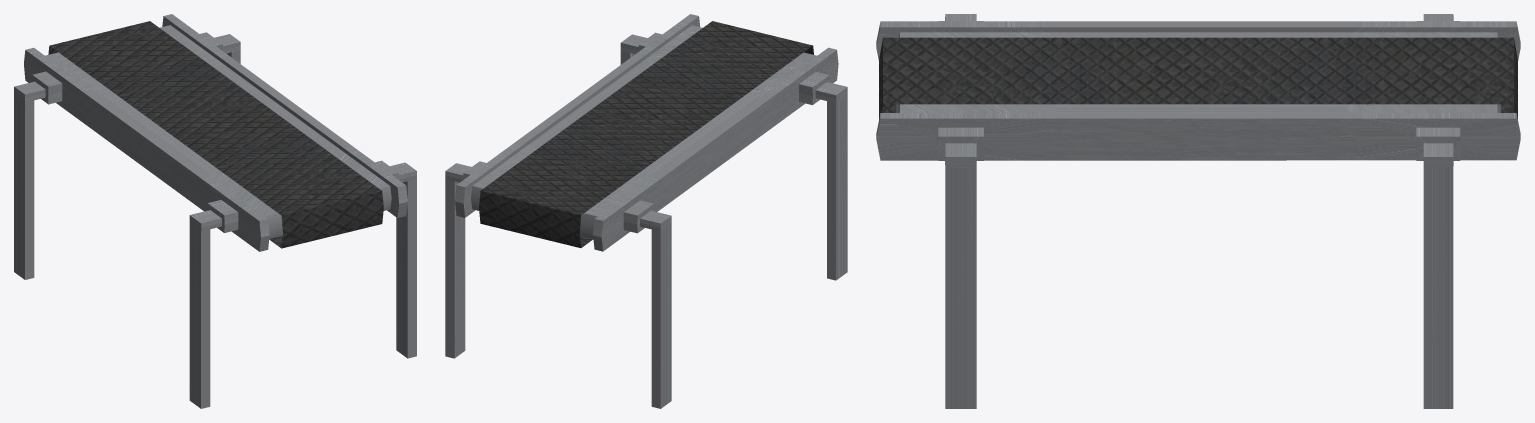
The model's file is conveyer_straight_tall.FBX.
3 renders of one model, left to right at view 1: azimuth 30°, elevation 25°; view 2: azimuth 150°, elevation 25°; view 3: azimuth 270°, elevation 25°, orthographic. The views are drawn at different scales.
Parts seen in each view (by area): view 1: conveyer_straight_tall; view 2: conveyer_straight_tall; view 3: conveyer_straight_tall.
Boxes of the visible parts, x1,y1,x2,y2 form: conveyer_straight_tall: (14, 14, 416, 408); conveyer_straight_tall: (445, 14, 847, 408); conveyer_straight_tall: (876, 14, 1520, 408).
Size of the model in its own units: 73.47 by 64.08 by 140.
2 materials, 2 textured.
